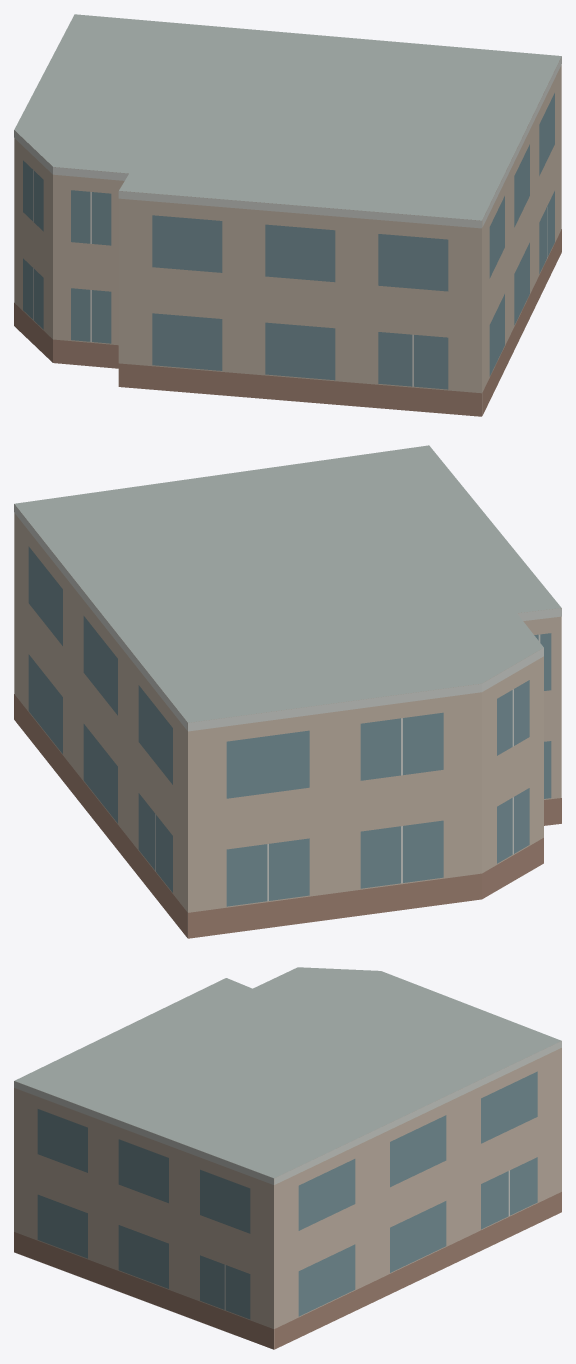
File: survey-upis-32947950.glb
3 views of the same model, one above another, from view 1: azimuth 30°, elevation 25°; view 2: azimuth 150°, elevation 25°; view 3: azimuth 270°, elevation 25° (orthographic). The views are drawn at different scales.
Parts seen in each view (by area): view 1: survey-upis-32947950.tmp; view 2: survey-upis-32947950.tmp; view 3: survey-upis-32947950.tmp.
Part boxes in pixels (x1,y1,x2,y2): survey-upis-32947950.tmp: (14,14,561,416); survey-upis-32947950.tmp: (14,445,561,938); survey-upis-32947950.tmp: (14,967,561,1349).
Bounding box in the file's own units: 16.13 × 6.1 × 17.68.
